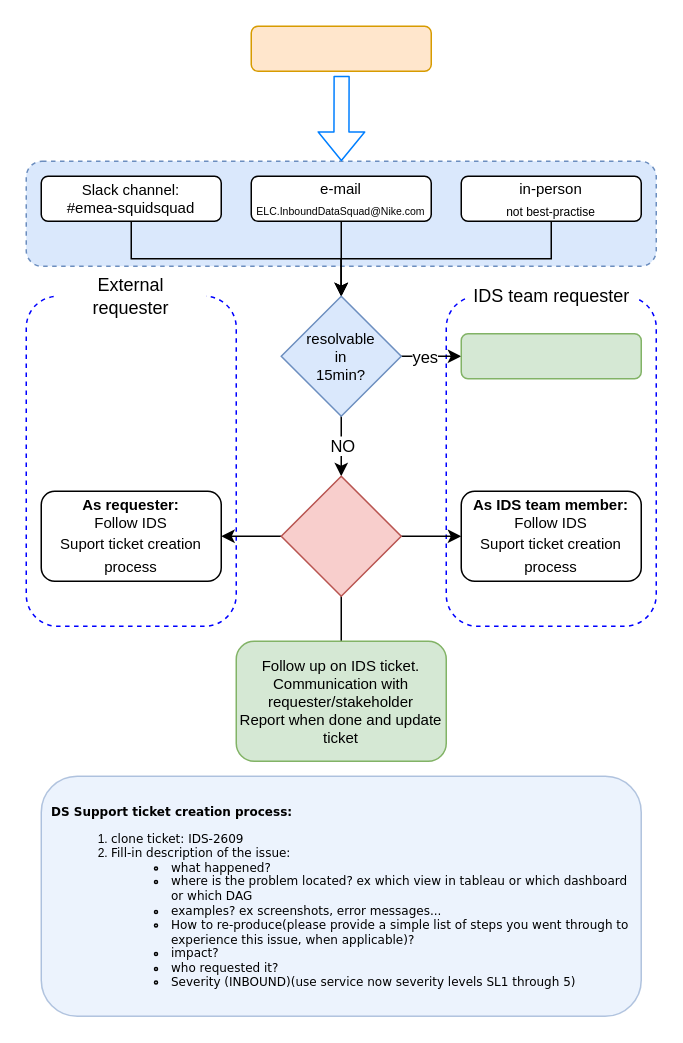
Some shapes in this 683 by 1043 pixel diagram are drawn without their labels. The shapes that lost their labels are listed below. From the top down, each one's centre as x and y in pixels, then its label:
At point (340, 48): "receive support request via".
At point (550, 355): "fix-it => done".
At point (340, 535): "create support ticket IDS".
